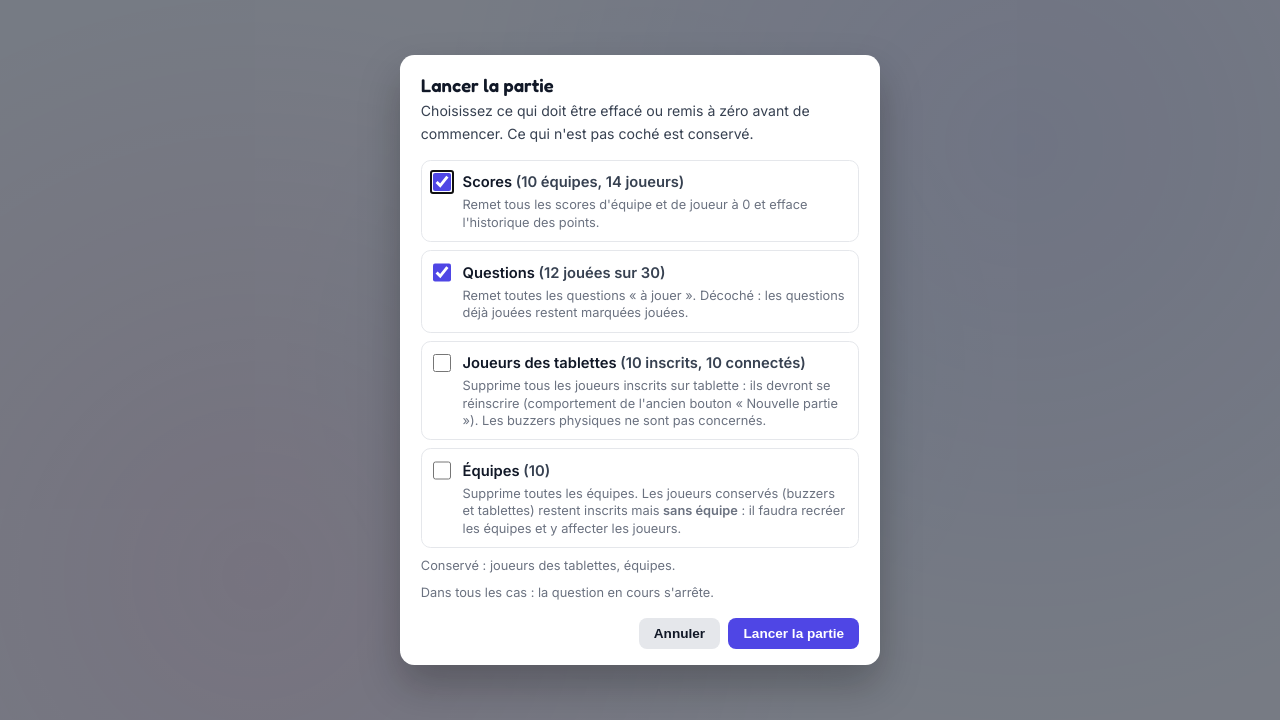
Test case: LaunchGamePopup (#243, #253) › Joueurs des tablettes coche ET verrouille Scores, avec l'explication
This screenshot has width=1280, height=720.
Click the checkbox labelled "Joueurs des tablettes" at (442, 363), box [433,354,451,372]
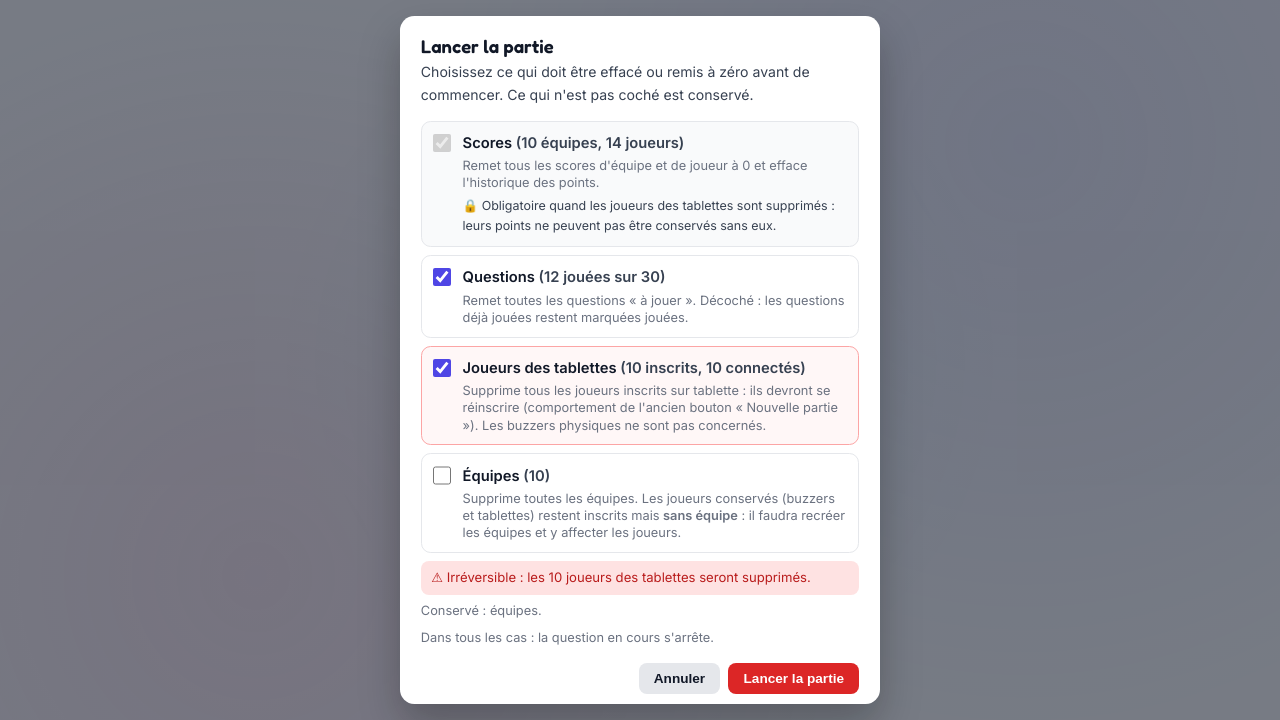
Now the checkbox labelled "Scores" is disabled, box [433,134,451,152]
Now the dialog shows "Obligatoire quand les joueurs des tablettes sont supprimés", box [463,198,835,233]
Now the message shows "Irréversible : les 10 joueurs des tablettes seront supprimés.", box [421,561,859,595]
Click the checkbox labelled "Joueurs des tablettes" at (442, 368), box [433,358,451,377]
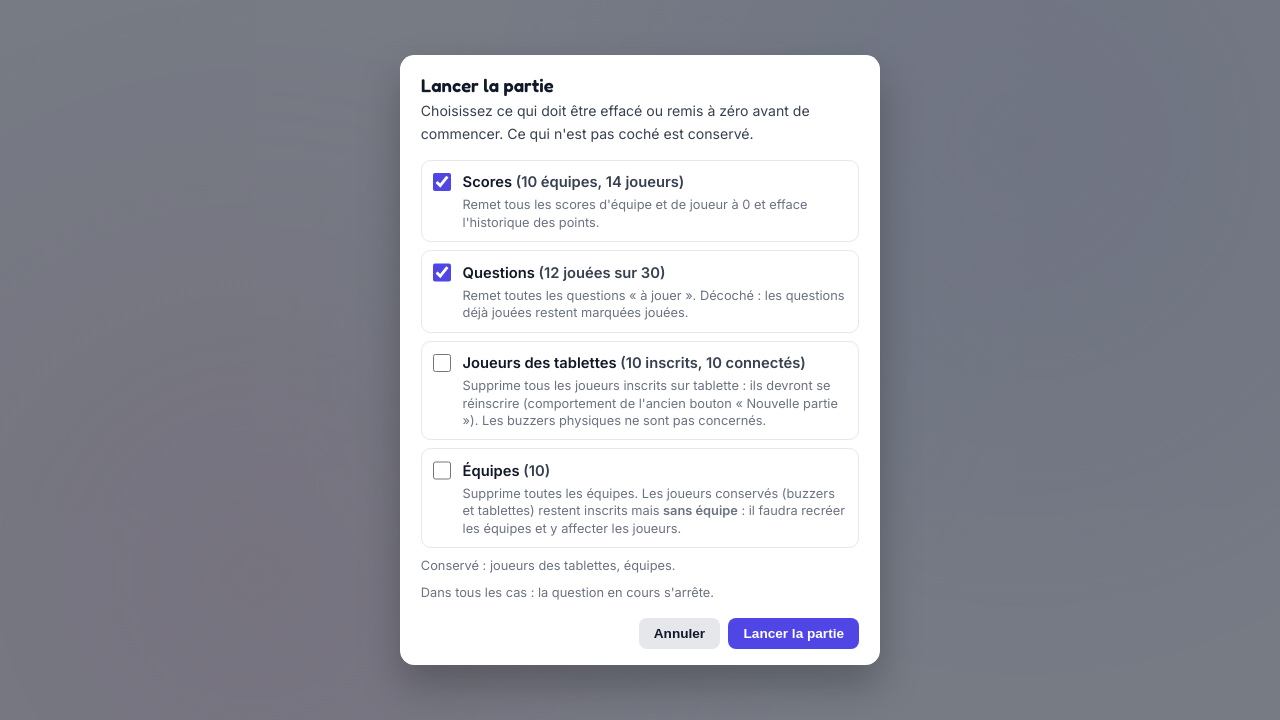
Now the checkbox labelled "Scores" is enabled, box [433,173,451,191]
